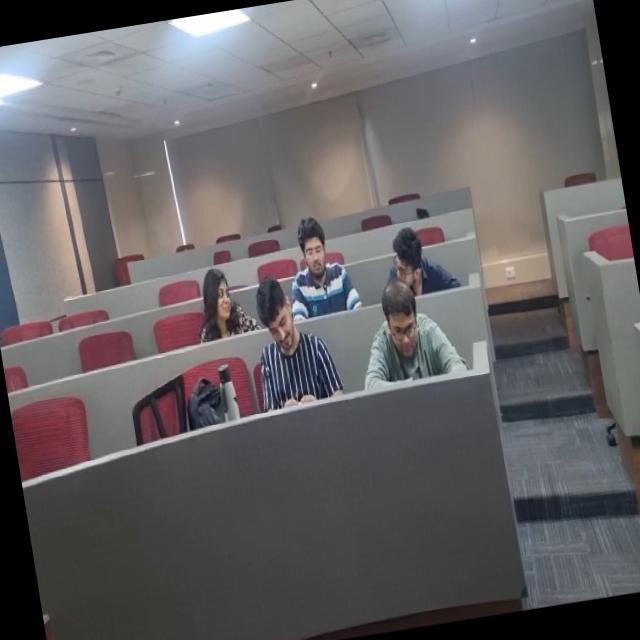cheating: (242, 256, 331, 412), (377, 216, 458, 304), (188, 262, 250, 348)
non-cheating: (346, 279, 464, 399), (276, 202, 358, 324)
